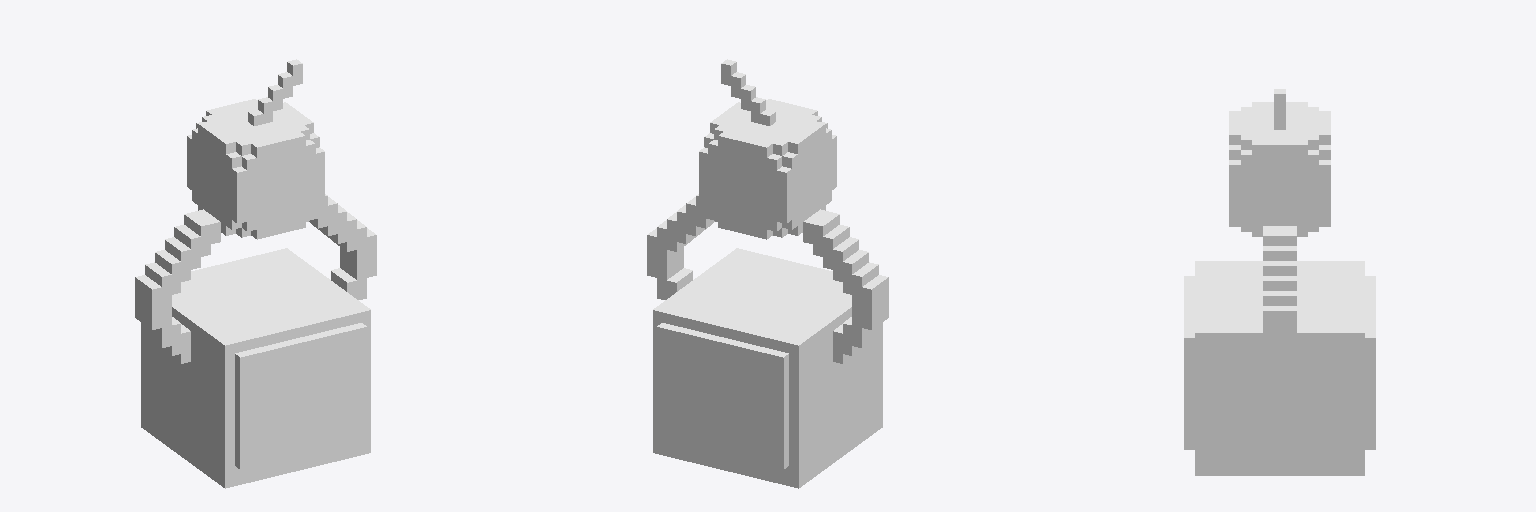
The model's file is Boom.obj.
The picture shows the model from 3 angles: view 1: azimuth 30°, elevation 25°; view 2: azimuth 150°, elevation 25°; view 3: azimuth 270°, elevation 25°; orthographic projection.
Visible parts, largest first — view 1: object 1; view 2: object 1; view 3: object 1.
Boxes of the visible parts, x1=… form: object 1: x1=135, y1=59, x2=376, y2=488; object 1: x1=647, y1=59, x2=888, y2=488; object 1: x1=1184, y1=89, x2=1375, y2=475.
Size of the model in its own units: 2.3 by 3.6 by 1.7.